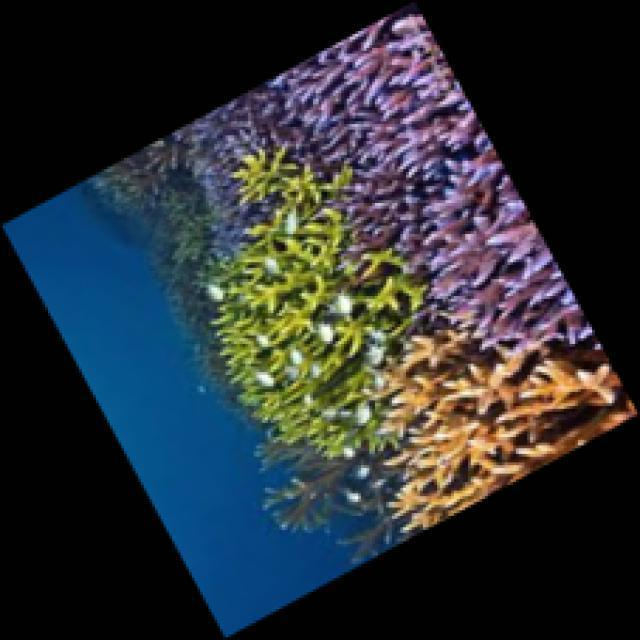Healthy: (187, 1, 599, 345), (215, 152, 430, 461), (379, 328, 640, 541)
